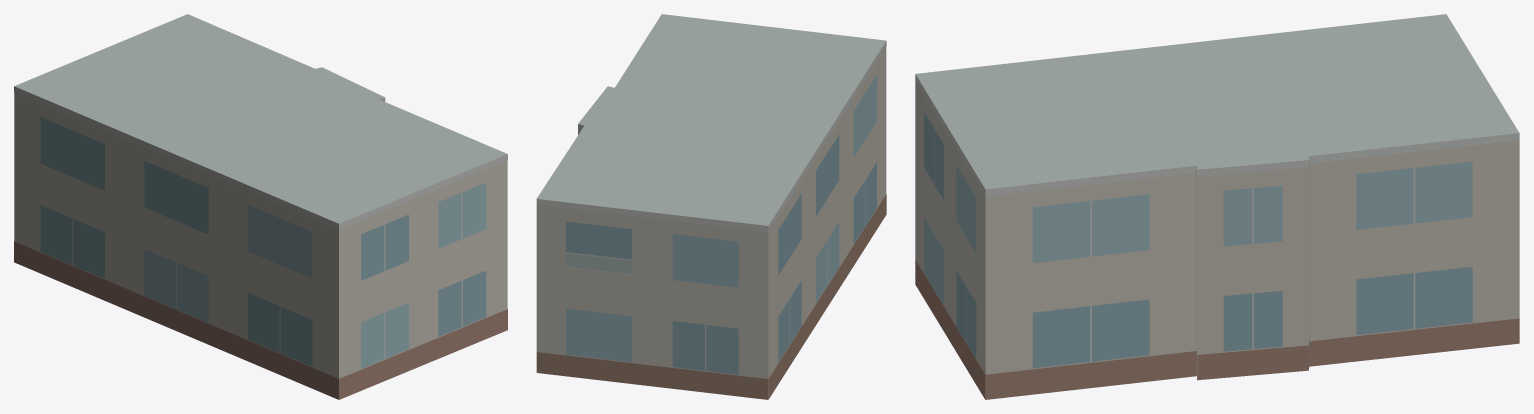
File: survey-upis-32921108.glb
3 renders of one model, left to right at view 1: azimuth 30°, elevation 25°; view 2: azimuth 150°, elevation 25°; view 3: azimuth 270°, elevation 25°, orthographic. The views are drawn at different scales.
Parts seen in each view (by area): view 1: survey-upis-32921108.tmp; view 2: survey-upis-32921108.tmp; view 3: survey-upis-32921108.tmp.
Boxes of the visible parts, x1,y1,x2,y2 form: survey-upis-32921108.tmp: (14, 14, 507, 399); survey-upis-32921108.tmp: (536, 14, 886, 399); survey-upis-32921108.tmp: (915, 14, 1519, 399).
Bounding box in the file's own units: 12.52 × 7 × 18.22.
